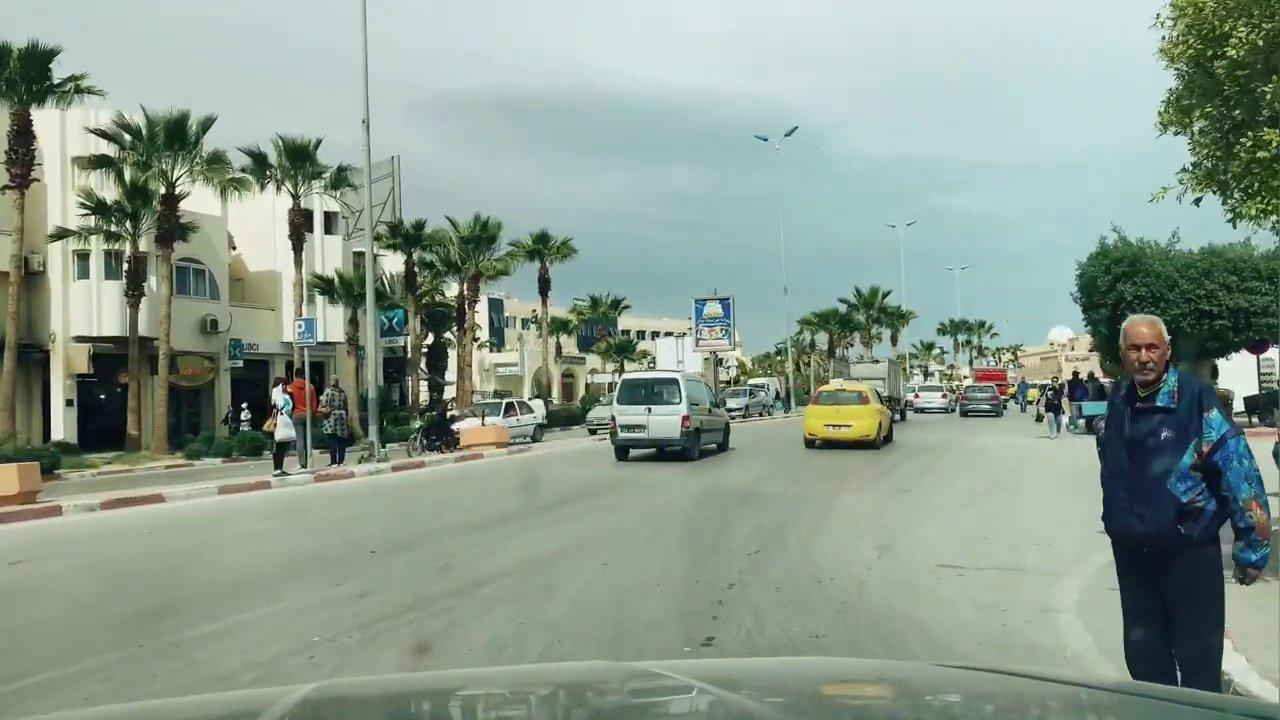parking zone: (292, 316, 318, 346)
